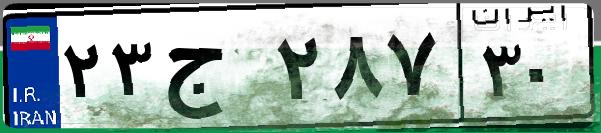0: (525, 38, 570, 115)
2: (270, 28, 330, 110), (57, 26, 110, 100)
3: (475, 38, 525, 113), (110, 28, 158, 98)
7: (385, 28, 445, 110)
8: (330, 28, 385, 110)
ج: (158, 20, 270, 120)
